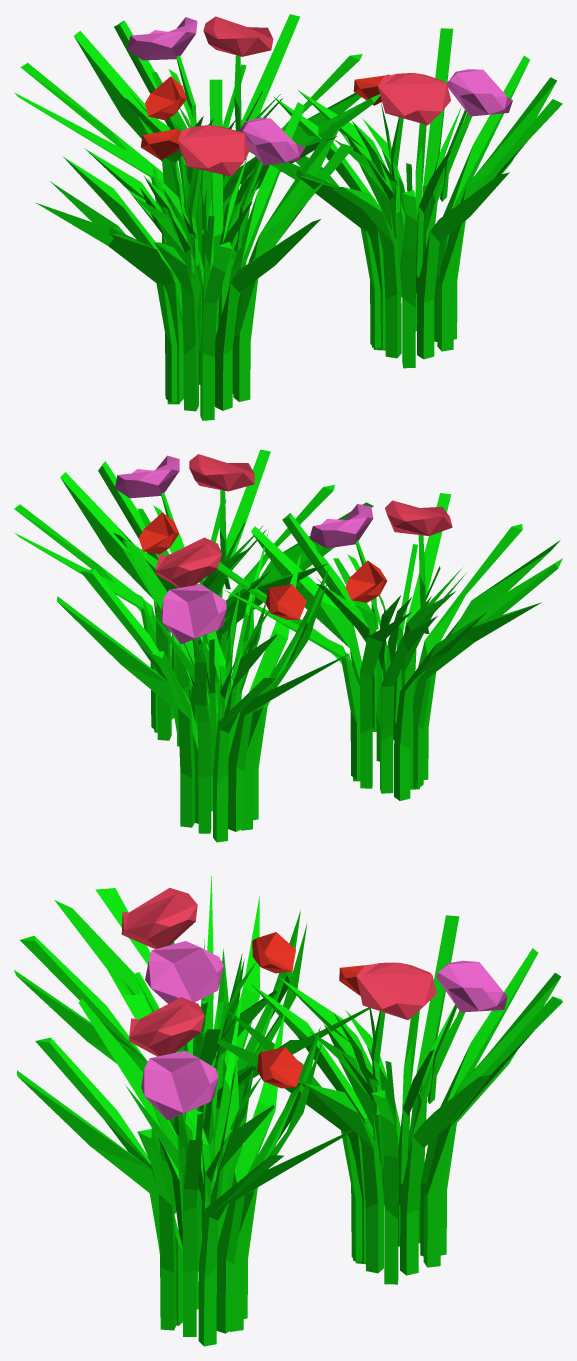
The model's file is cvece 4.fbx.
3 views of the same model, one above another, from view 1: azimuth 30°, elevation 25°; view 2: azimuth 150°, elevation 25°; view 3: azimuth 270°, elevation 25° (orthographic). The views are drawn at different scales.
Parts seen in each view (by area): view 1: Cube.428; view 2: Cube.428; view 3: Cube.428.
Part boxes in pixels (left/top/right/bottom): Cube.428: left=14, top=14, right=562, bottom=420; Cube.428: left=14, top=449, right=562, bottom=842; Cube.428: left=14, top=876, right=562, bottom=1346.
Bounding box in the file's own units: 185 × 96.15 × 154.
